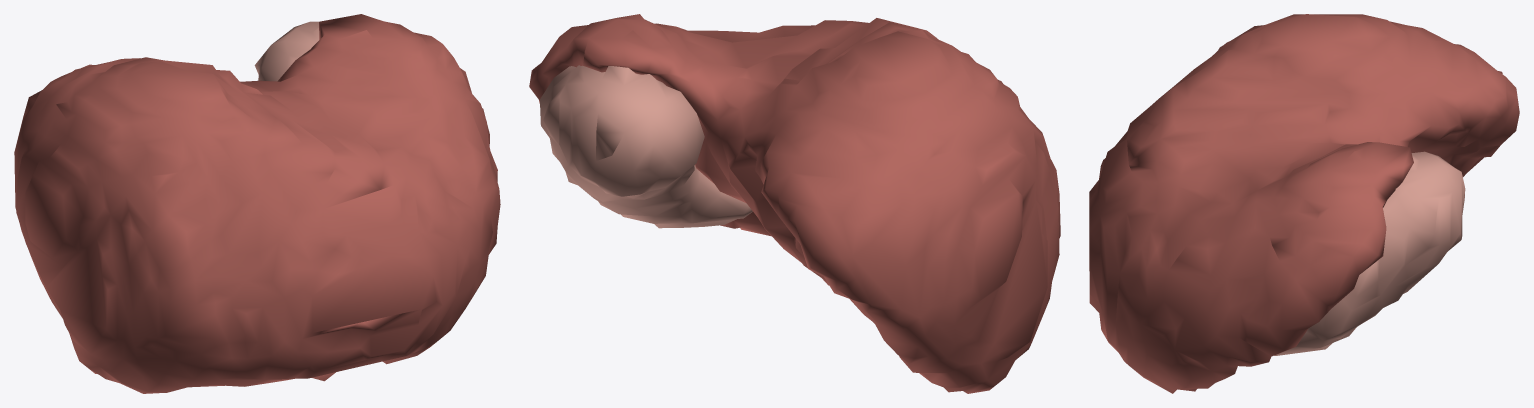
The model's file is fetus.digestive.LOD3.glb.
3 views of the same model, side by side, from view 1: azimuth 30°, elevation 25°; view 2: azimuth 150°, elevation 25°; view 3: azimuth 270°, elevation 25° (orthographic). The views are drawn at different scales.
Visible parts, largest first — view 1: FETUS.DIGESTIVE.LIVER, FETUS.DIGESTIVE.STOMACH; view 2: FETUS.DIGESTIVE.LIVER, FETUS.DIGESTIVE.STOMACH; view 3: FETUS.DIGESTIVE.LIVER, FETUS.DIGESTIVE.STOMACH.
Part boxes in pixels (x1,y1,x2,y2): FETUS.DIGESTIVE.LIVER: (14, 14, 500, 393); FETUS.DIGESTIVE.STOMACH: (254, 21, 319, 81); FETUS.DIGESTIVE.LIVER: (529, 14, 1060, 393); FETUS.DIGESTIVE.STOMACH: (540, 65, 752, 228); FETUS.DIGESTIVE.LIVER: (1089, 14, 1519, 393); FETUS.DIGESTIVE.STOMACH: (1274, 151, 1465, 355).
Bounding box in the file's own units: 0.0675 × 0.0431 × 0.0589.
